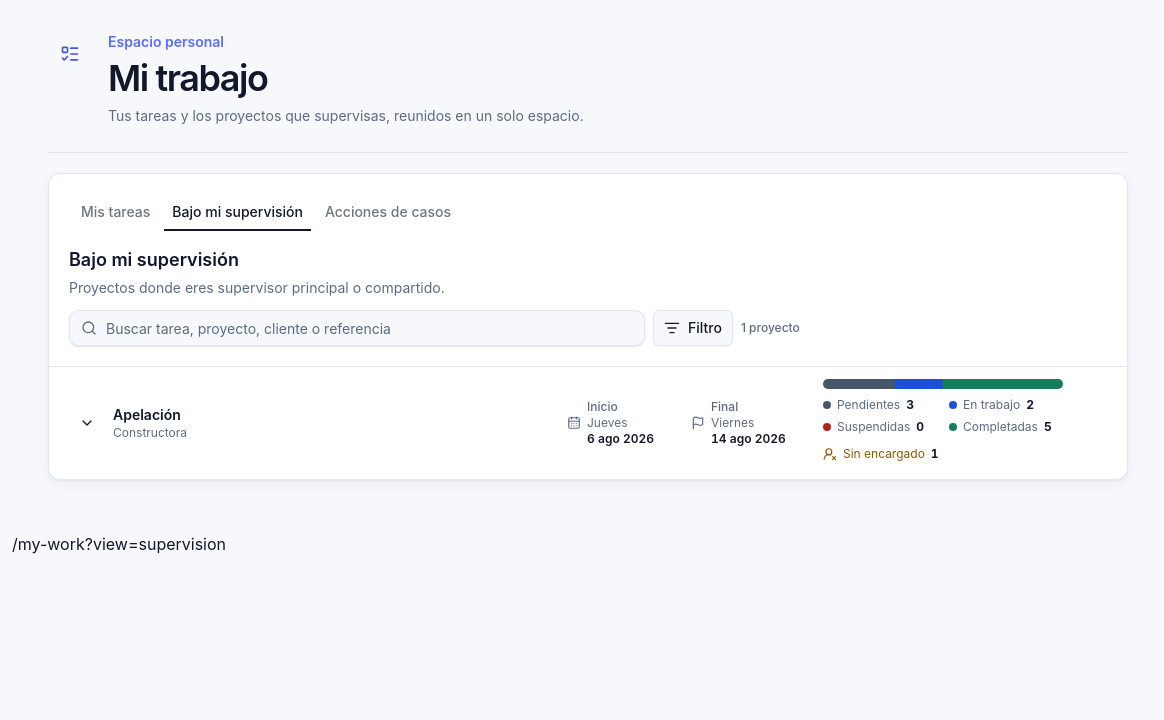
Test: MyWorkPage › explains an expanded project with no attention tasks before loading all
Click the button named "Ver tareas de Apelación" at (87, 423), box [69,405,105,441]
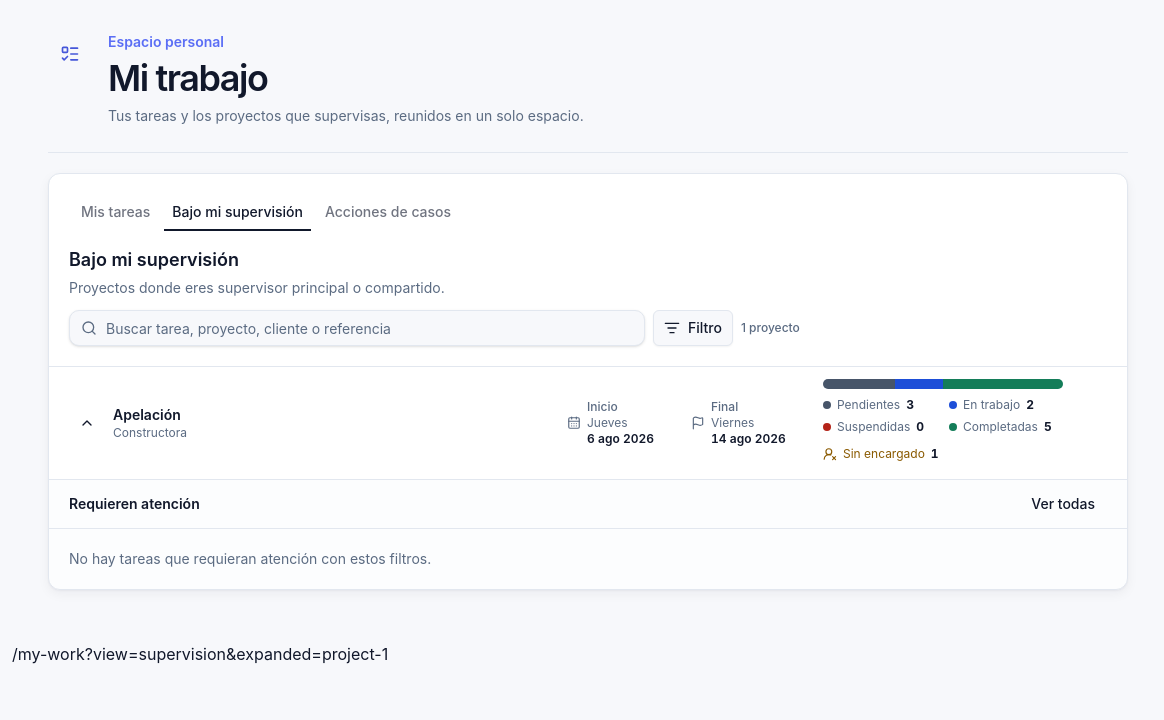
Check: the text "No hay tareas que requieran atención con estos filtros." is shown, box [49,528,1127,589]
